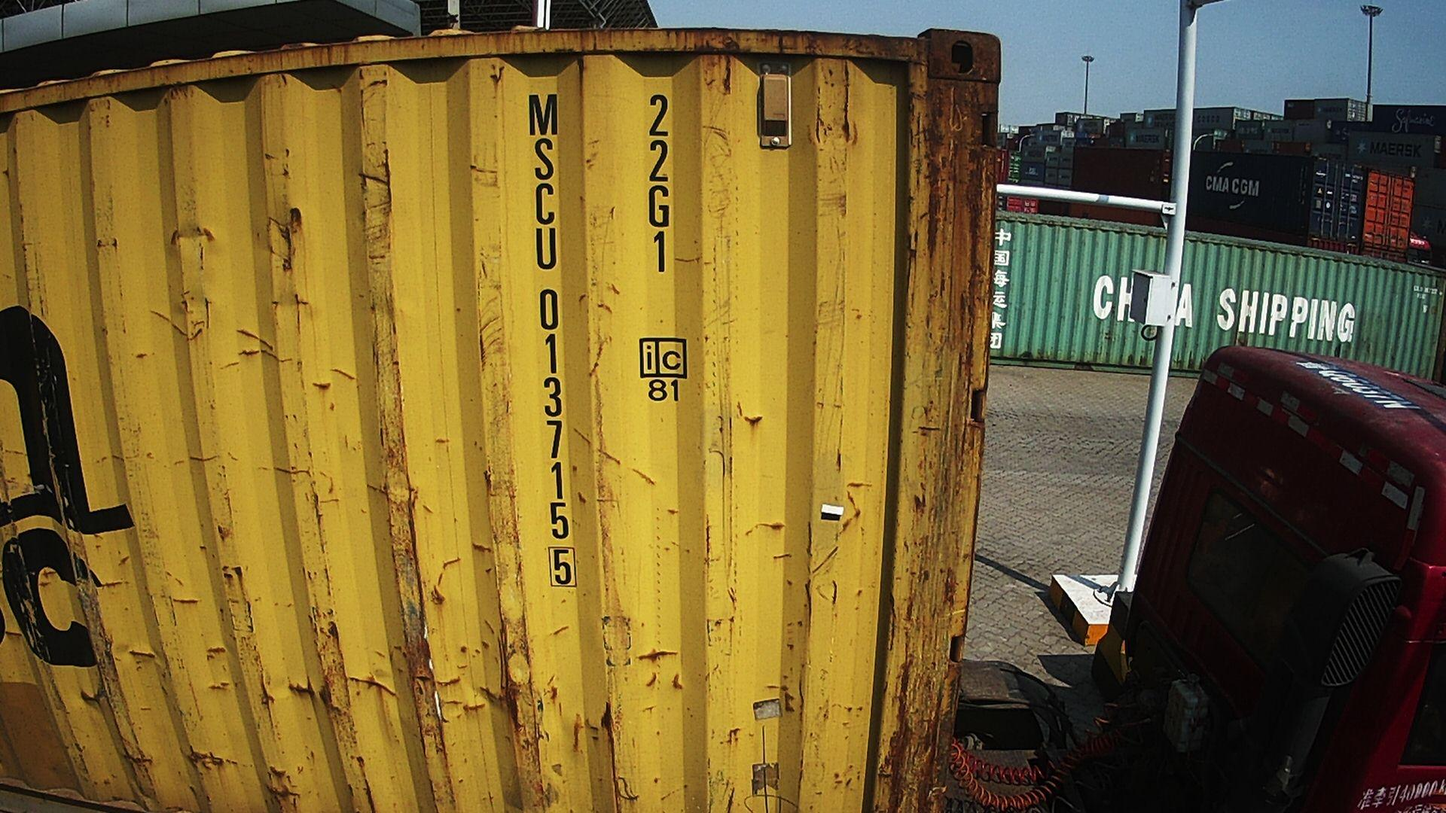container-numbers: (522, 88, 578, 597), (640, 89, 678, 279)
